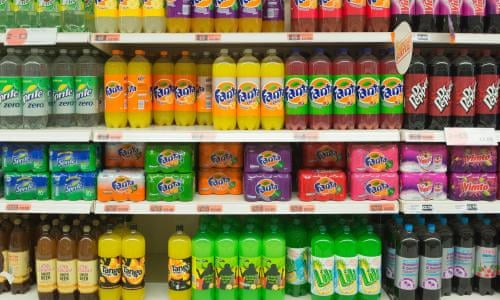plastic_bottle: (284, 47, 309, 131), (211, 48, 236, 131), (75, 48, 100, 127), (395, 223, 420, 300), (166, 224, 191, 300), (428, 47, 451, 129), (75, 222, 98, 300), (104, 49, 126, 130)
